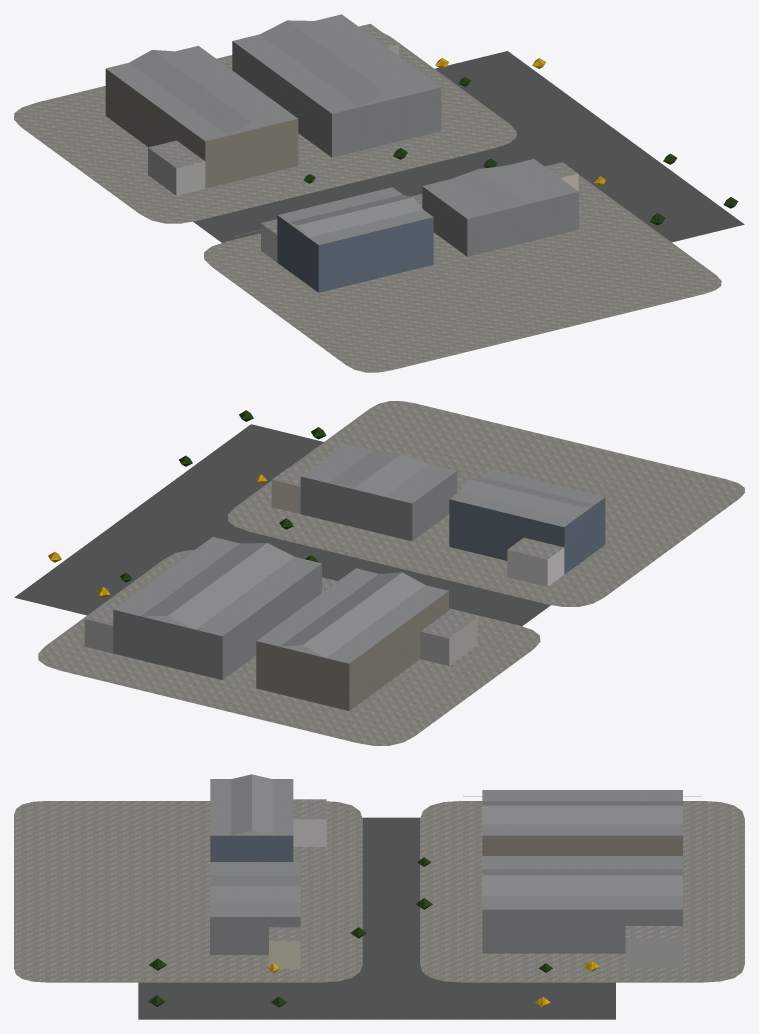
Rendered from cidade_S06_03_lod.gltf.
The picture shows the model from 3 angles, top to bottom: view 1: azimuth 30°, elevation 25°; view 2: azimuth 150°, elevation 25°; view 3: azimuth 270°, elevation 25°; orthographic projection.
Parts seen in each view (by area): view 1: S06_03_Chao_LOD2, S06_03_Edificios_LOD1, S06_03_Silhueta_LOD2, S06_03_Vegetacao_LOD2; view 2: S06_03_Chao_LOD2, S06_03_Edificios_LOD1, S06_03_Silhueta_LOD2, S06_03_Vegetacao_LOD2; view 3: S06_03_Chao_LOD2, S06_03_Edificios_LOD1, S06_03_Silhueta_LOD2, S06_03_Vegetacao_LOD2.
Part boxes in pixels (left/top/right/bottom): S06_03_Chao_LOD2: left=14, top=33, right=744, bottom=372; S06_03_Edificios_LOD1: left=34, top=20, right=632, bottom=292; S06_03_Silhueta_LOD2: left=105, top=14, right=578, bottom=291; S06_03_Vegetacao_LOD2: left=303, top=58, right=738, bottom=225; S06_03_Chao_LOD2: left=14, top=401, right=744, bottom=745; S06_03_Edificios_LOD1: left=58, top=450, right=605, bottom=722; S06_03_Silhueta_LOD2: left=113, top=443, right=605, bottom=710; S06_03_Vegetacao_LOD2: left=48, top=410, right=326, bottom=597; S06_03_Chao_LOD2: left=14, top=801, right=744, bottom=1019; S06_03_Edificios_LOD1: left=210, top=774, right=701, bottom=968; S06_03_Silhueta_LOD2: left=210, top=779, right=682, bottom=954; S06_03_Vegetacao_LOD2: left=148, top=857, right=599, bottom=1007.
Bounding box in the file's own units: 109 × 12.88 × 153.
Materials: 12 (12 with a texture image).
